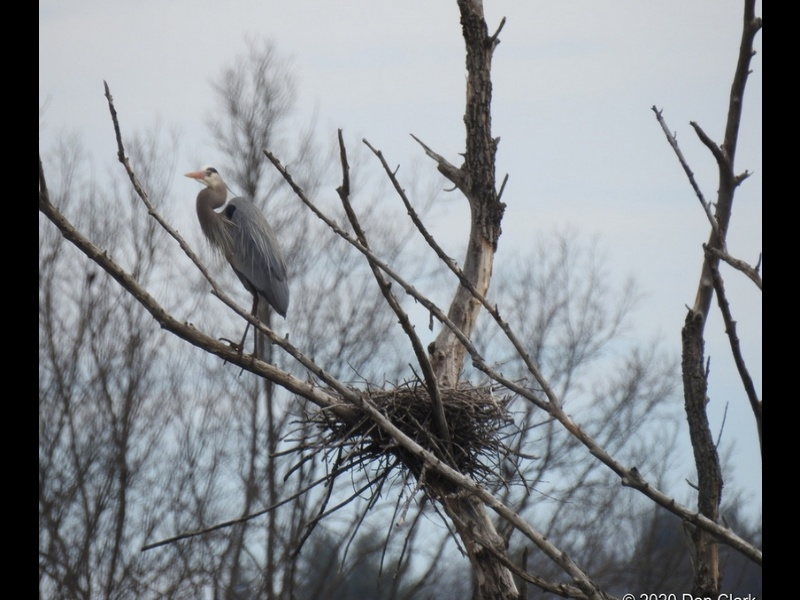heron: (182, 166, 295, 368)
